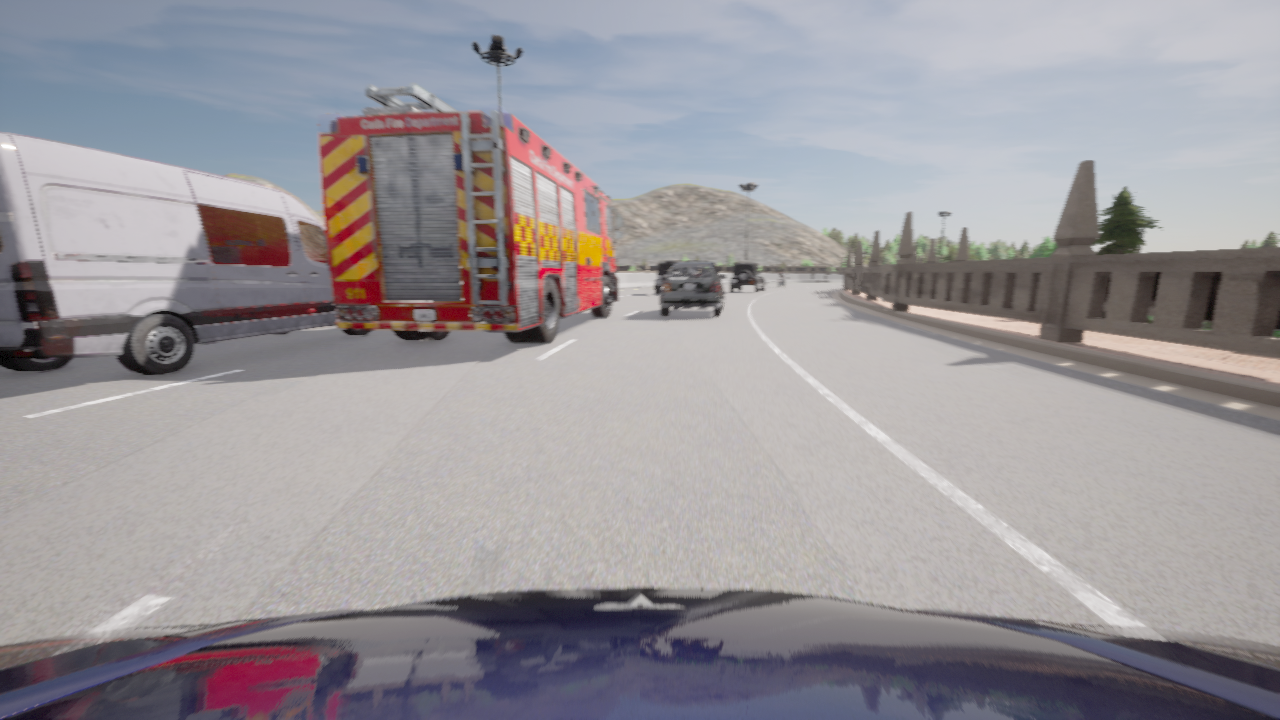cyclist: (0, 588, 1279, 719), (0, 132, 371, 374), (318, 83, 623, 342), (660, 261, 725, 316), (728, 262, 765, 292), (653, 261, 681, 293), (776, 274, 785, 287)
